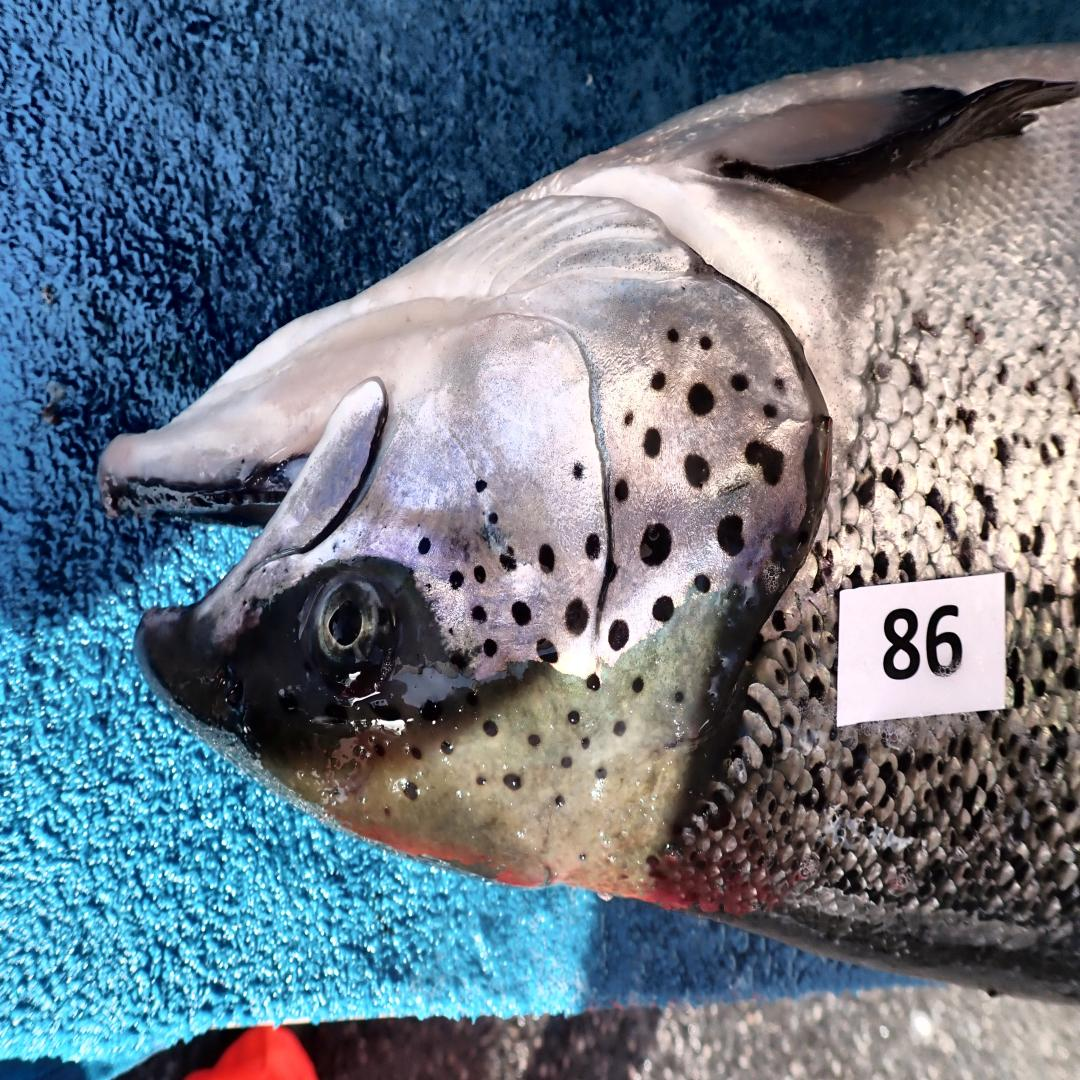spot: (745, 441, 785, 487), (639, 523, 673, 565), (717, 515, 745, 557), (683, 453, 711, 489), (688, 382, 715, 416), (565, 598, 589, 636), (608, 619, 629, 650), (536, 638, 559, 665), (643, 428, 662, 458), (652, 596, 673, 622), (538, 545, 555, 574), (512, 601, 532, 625), (499, 546, 517, 571), (586, 534, 601, 560), (694, 574, 711, 595), (614, 478, 629, 501), (730, 373, 749, 391), (652, 371, 667, 391), (483, 638, 498, 658), (449, 571, 464, 589), (472, 605, 487, 623), (586, 675, 601, 692), (571, 463, 584, 480), (418, 537, 430, 555), (475, 565, 486, 584), (699, 336, 713, 350), (475, 478, 487, 492), (667, 329, 679, 342), (624, 410, 633, 426), (764, 405, 776, 416), (774, 378, 784, 390), (488, 512, 498, 523), (448, 627, 453, 636), (424, 583, 430, 589)
